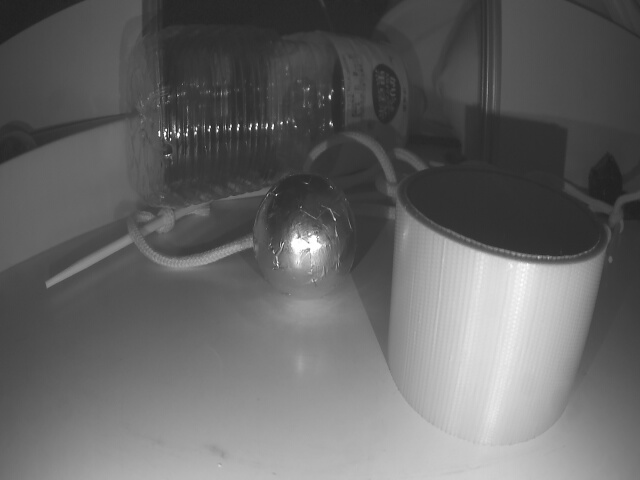Live: (254, 172, 359, 288)
Point: (0, 107, 163, 281)
